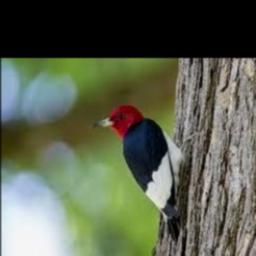Woodpecker: (93, 104, 197, 241)
